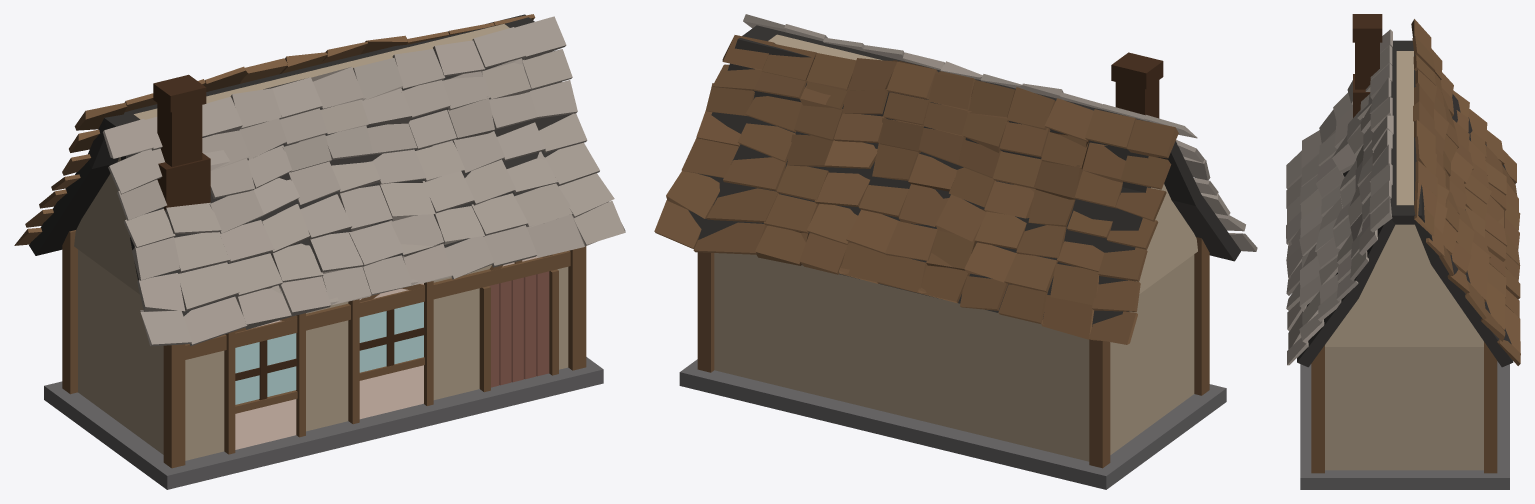
File: House_1.fbx
3 renders of one model, left to right at view 1: azimuth 30°, elevation 25°; view 2: azimuth 150°, elevation 25°; view 3: azimuth 270°, elevation 25°, orthographic. The views are drawn at different scales.
Visible parts, largest first — view 1: Cube.053; view 2: Cube.053; view 3: Cube.053.
Boxes of the visible parts, bbox=[...] form: Cube.053: bbox=[14, 14, 625, 489]; Cube.053: bbox=[654, 14, 1257, 489]; Cube.053: bbox=[1286, 14, 1520, 489].
Size of the model in its own units: 1292 by 927 by 639.
